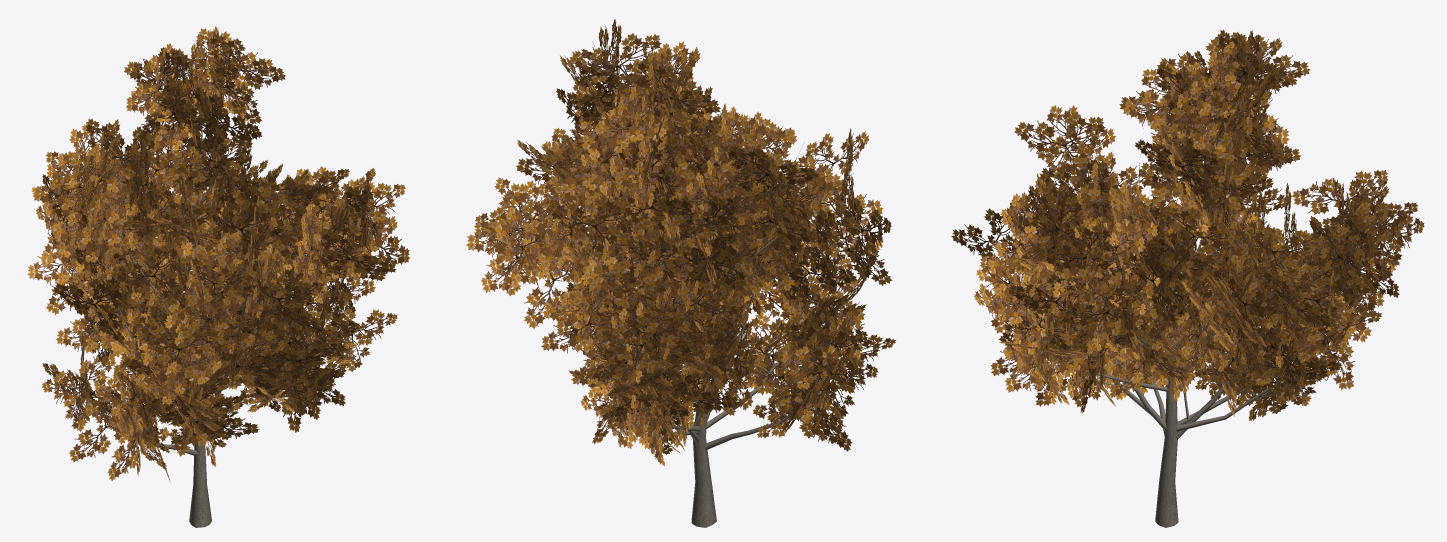
File: Acer_Pseudoplatanus_Autumn_Young.glb
3 views of the same model, side by side, from view 1: azimuth 30°, elevation 25°; view 2: azimuth 150°, elevation 25°; view 3: azimuth 270°, elevation 25° (orthographic). The views are drawn at different scales.
Visible parts, largest first — view 1: Acer_Pseudoplatanus_Autumn_Young__LOD3; view 2: Acer_Pseudoplatanus_Autumn_Young__LOD3; view 3: Acer_Pseudoplatanus_Autumn_Young__LOD3.
Part boxes in pixels (x1,y1,x2,y2): Acer_Pseudoplatanus_Autumn_Young__LOD3: (27,26,409,527); Acer_Pseudoplatanus_Autumn_Young__LOD3: (466,19,895,527); Acer_Pseudoplatanus_Autumn_Young__LOD3: (951,29,1424,527).
Size of the model in its own units: 6.61 by 8.2 by 7.1.
Materials: 2 (2 with a texture image).
